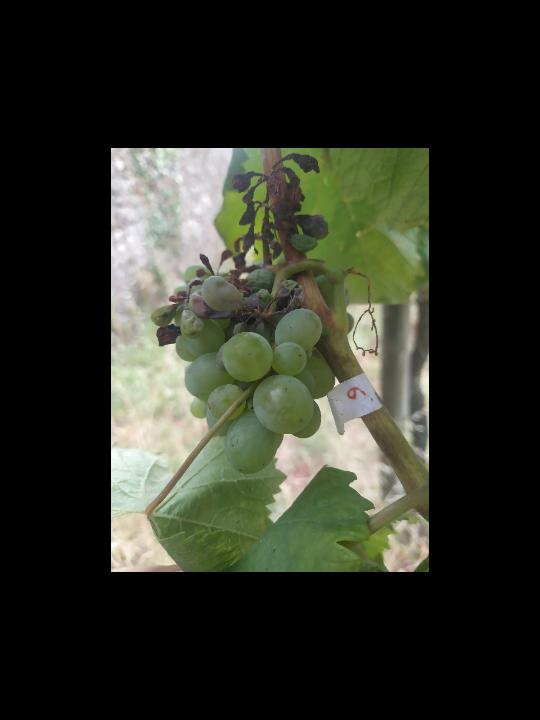grape: (149, 150, 331, 478)
